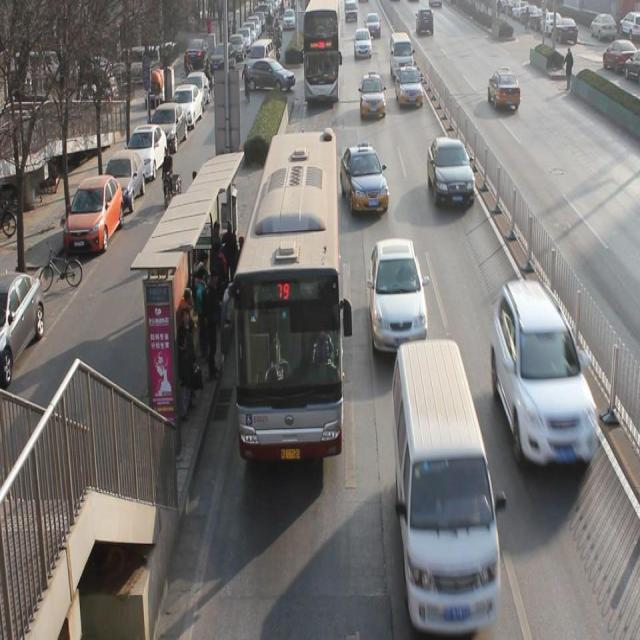car: (492, 282, 600, 479), (369, 242, 428, 356), (340, 144, 391, 216), (426, 138, 476, 209), (487, 68, 522, 111), (359, 73, 386, 118), (396, 69, 424, 109), (354, 30, 371, 59), (365, 15, 381, 38)
truck: (390, 348, 501, 623), (389, 34, 416, 84)
van: (230, 134, 342, 462), (304, 1, 340, 107)
